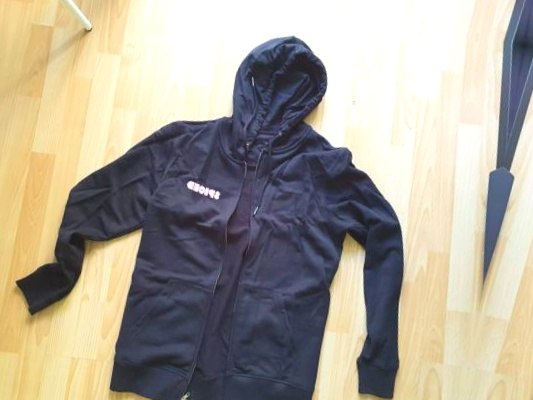Hoodie: (0, 0, 467, 400), (509, 84, 533, 400), (63, 0, 533, 6), (0, 397, 398, 400)
